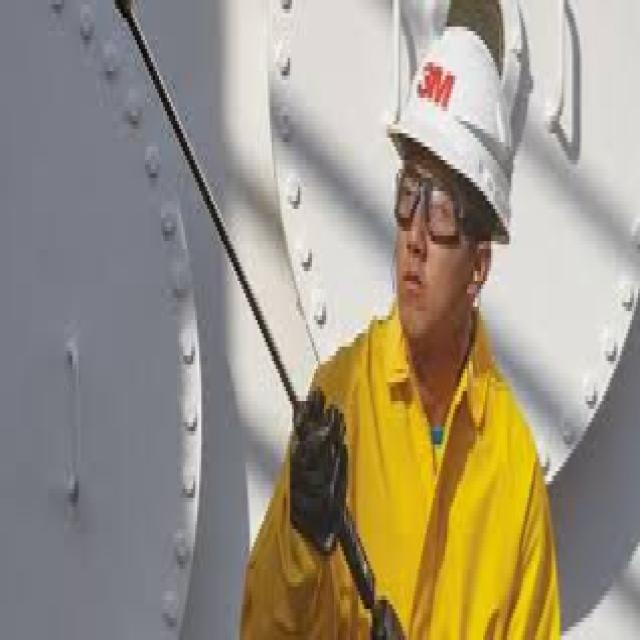glasses: (397, 161, 472, 242)
